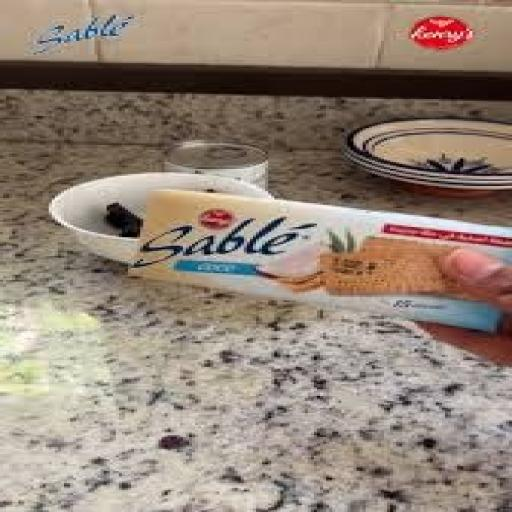sable: (101, 145, 512, 388)
